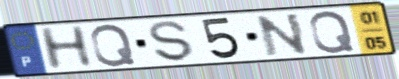5: (199, 16, 242, 61)
H: (36, 24, 97, 72)
N: (253, 11, 311, 58)
Q: (307, 9, 358, 55), (88, 22, 139, 68)
S: (146, 20, 196, 63)
